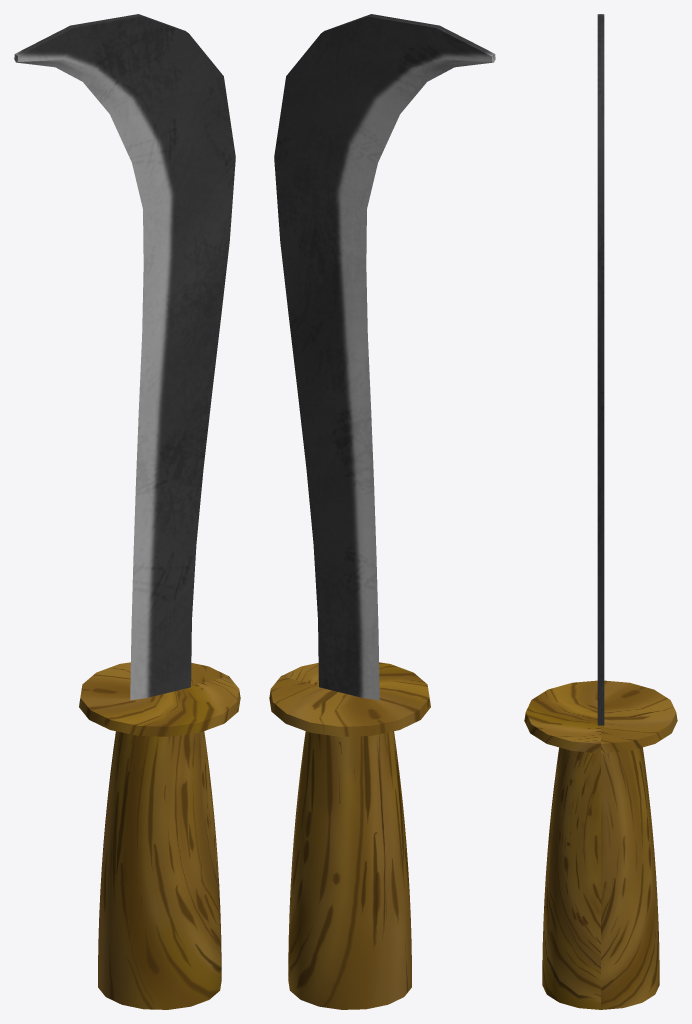
The model's file is Serpe.glb.
The picture shows the model from 3 angles, left to right: view 1: azimuth 30°, elevation 25°; view 2: azimuth 150°, elevation 25°; view 3: azimuth 270°, elevation 25°; orthographic projection. The views are drawn at different scales.
Visible parts, largest first — view 1: Serpe; view 2: Serpe; view 3: Serpe.
Part boxes in pixels (x1,y1,x2,y2): Serpe: (14, 14, 240, 1009); Serpe: (269, 14, 495, 1009); Serpe: (524, 14, 677, 1009).
Size of the model in its own units: 0.8068 by 3.52 by 0.5224.
Materials: 1 (1 with a texture image).
